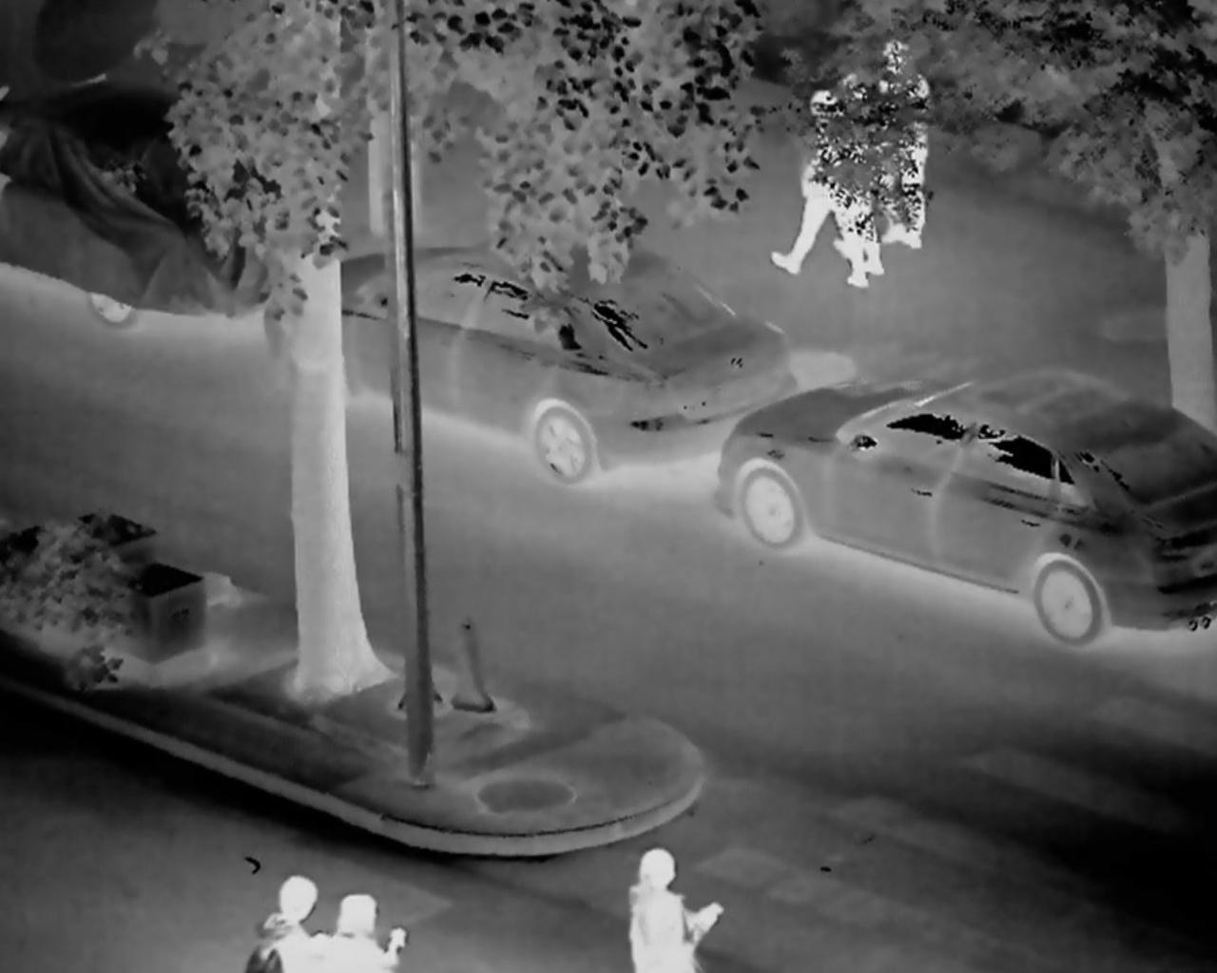person: (771, 81, 883, 296), (873, 30, 940, 267), (835, 75, 904, 291), (621, 846, 732, 973), (323, 877, 410, 973), (246, 862, 316, 973)
